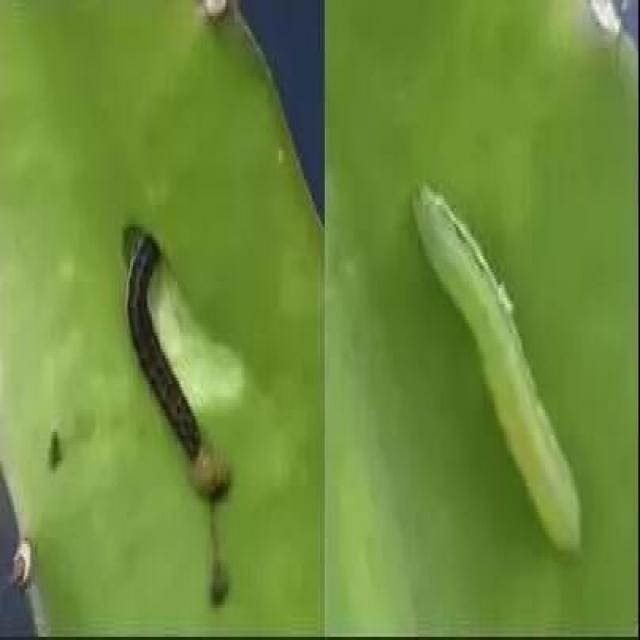BeetArmyWorm-Larva-: (402, 167, 601, 570), (121, 201, 206, 473)
